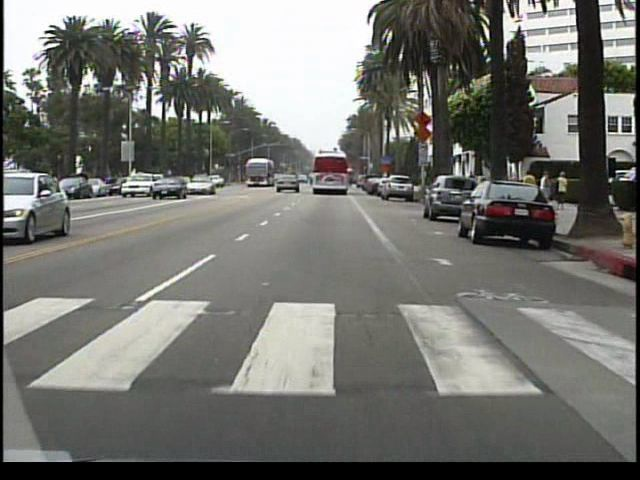person: (465, 170, 479, 201)
